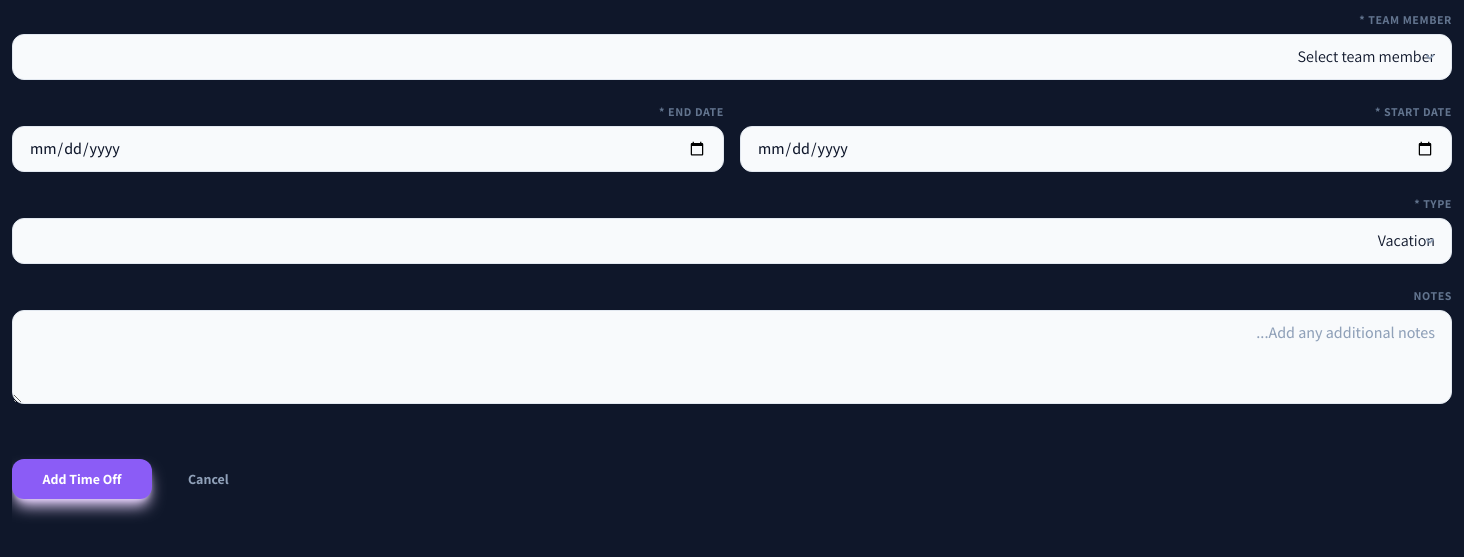
Scenario: TimeOffForm › Validation › shows error when submitting without selecting team member
This screenshot has width=1464, height=557.
# Fill other required fields
In the date field labelled "Start Date *": coordinates (1096, 149) [740,126,1452,172], type "2024-03-01"
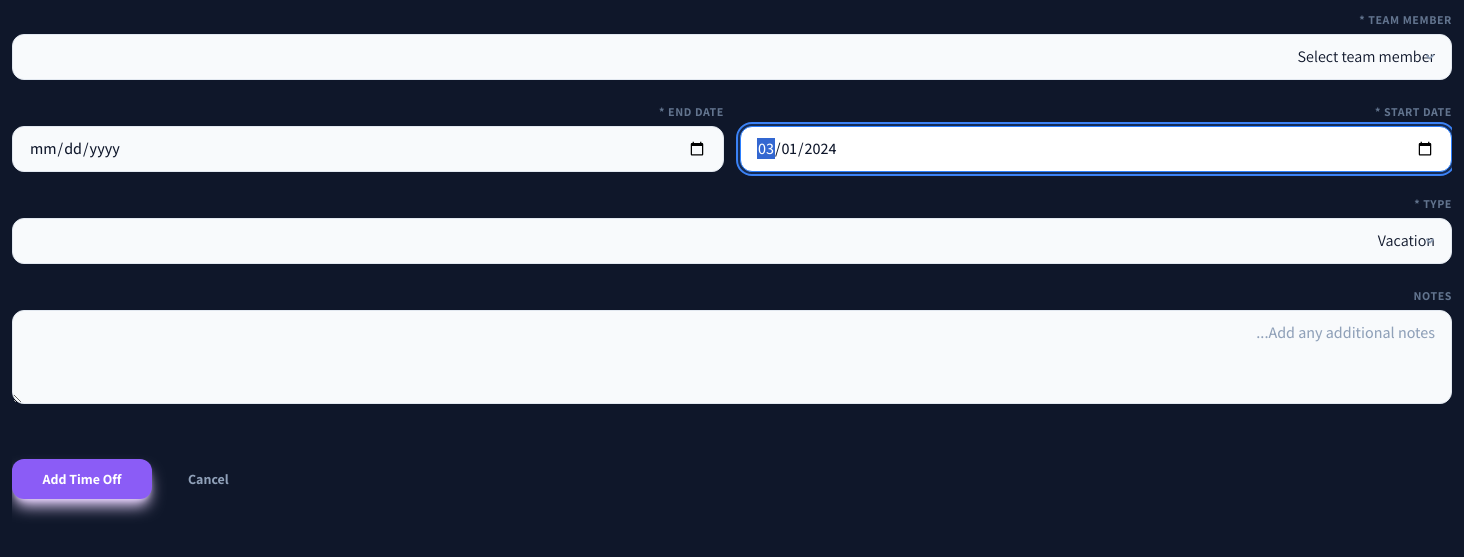
In the date field labelled "End Date *": coordinates (368, 149) [12,126,724,172], type "2024-03-05"
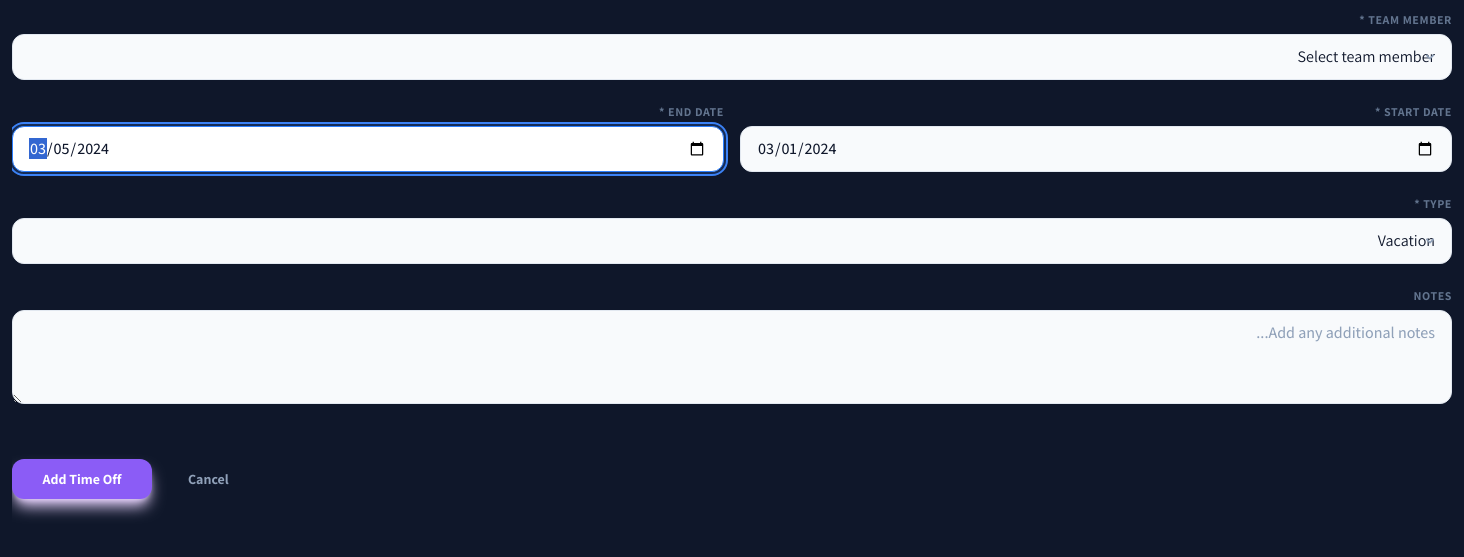
# Submit without selecting member
Click the button "Add Time Off": coordinates (82, 479) [12,459,152,499]
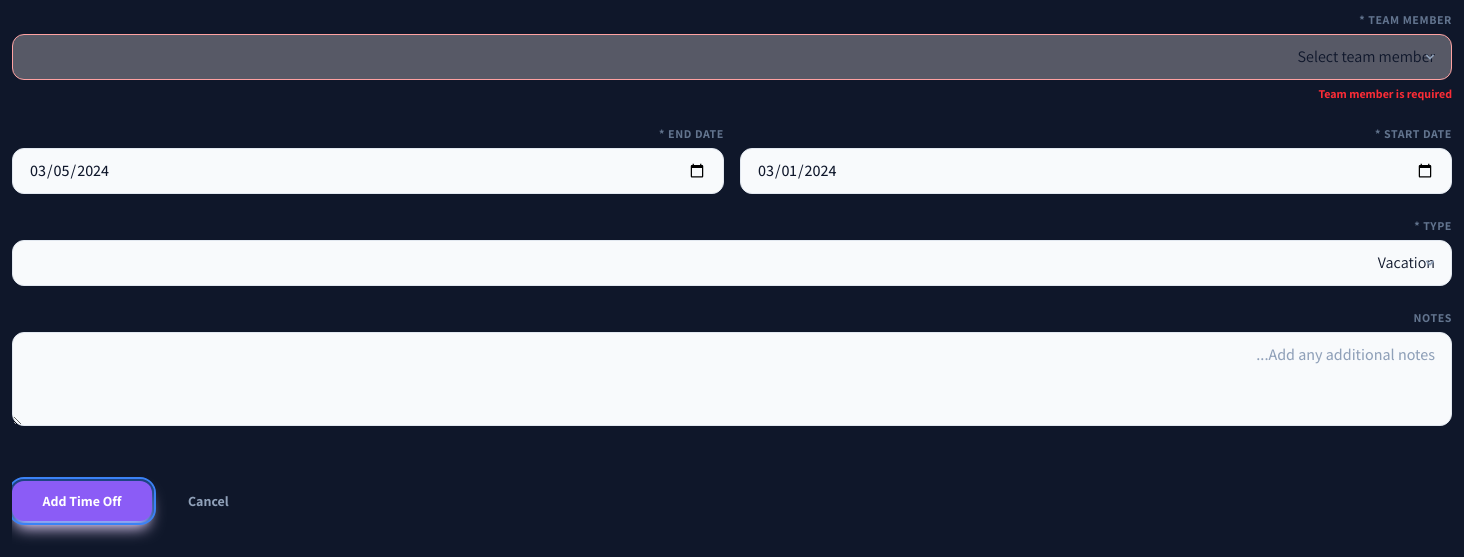
Check: the text "Team member is required" is shown, box [1318,86,1452,101]
